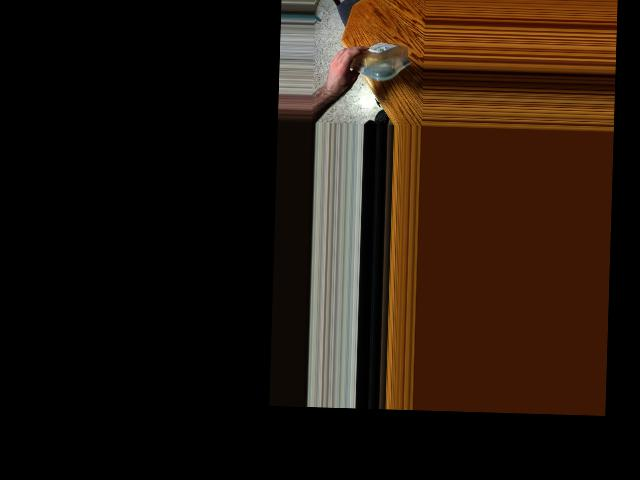cheese: (338, 39, 411, 79)
